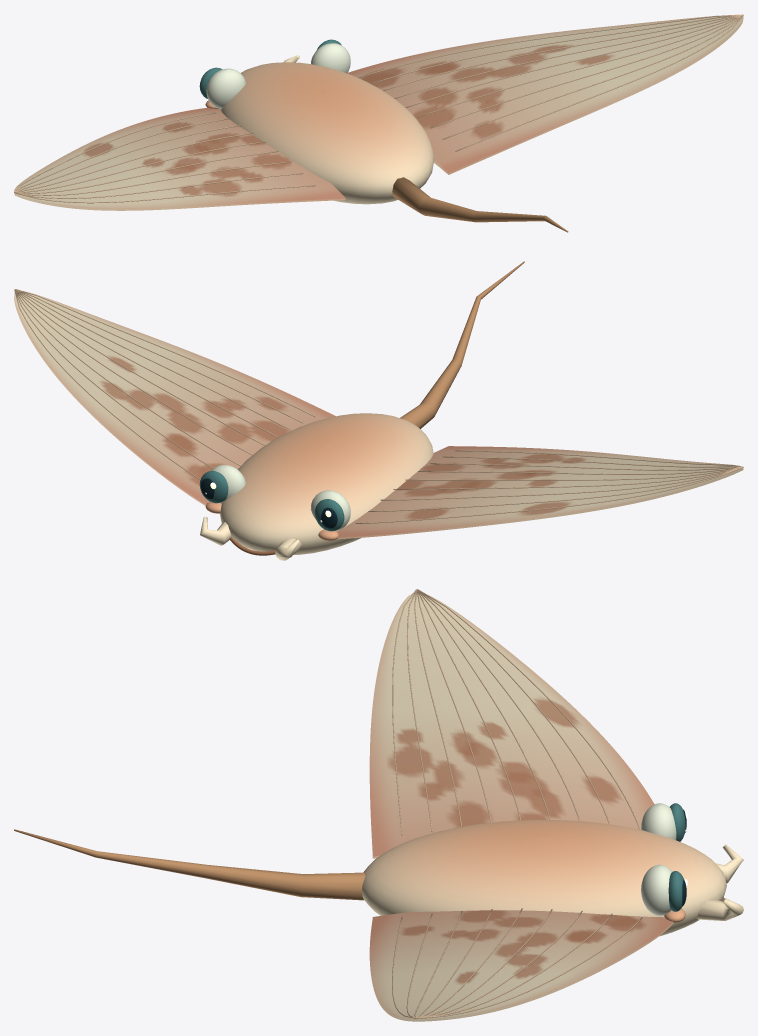
The model's file is ray.glb.
3 renders of one model, top to bottom at view 1: azimuth 30°, elevation 25°; view 2: azimuth 150°, elevation 25°; view 3: azimuth 270°, elevation 25°, orthographic. The views are drawn at different scales.
Visible parts, largest first — view 1: ray_wing_right_Silken fins, ray_wing_left_Silken fins, ray_fixed_Porcelain skin, ray_fixed_Silken fins, ray_eye_left_Porcelain skin, ray_eye_right_Porcelain skin; view 2: ray_wing_right_Silken fins, ray_wing_left_Silken fins, ray_fixed_Porcelain skin, ray_fixed_Silken fins, ray_eye_right_Porcelain skin, ray_eye_left_Porcelain skin, ray_eye_right_Enamel, ray_eye_left_Enamel; view 3: ray_wing_left_Silken fins, ray_fixed_Porcelain skin, ray_wing_right_Silken fins, ray_fixed_Silken fins, ray_eye_right_Porcelain skin, ray_eye_left_Porcelain skin.
Boxes of the visible parts, box(x1,y1,x2,y2) form: ray_wing_right_Silken fins: box(347, 14, 743, 174); ray_wing_left_Silken fins: box(14, 107, 345, 210); ray_fixed_Porcelain skin: box(205, 55, 434, 204); ray_fixed_Silken fins: box(392, 177, 568, 232); ray_eye_left_Porcelain skin: box(206, 68, 245, 108); ray_eye_right_Porcelain skin: box(311, 43, 350, 73); ray_wing_right_Silken fins: box(14, 289, 335, 513); ray_wing_left_Silken fins: box(337, 446, 743, 539); ray_fixed_Porcelain skin: box(200, 413, 433, 560); ray_fixed_Silken fins: box(400, 261, 524, 428); ray_eye_right_Porcelain skin: box(205, 465, 245, 503); ray_eye_left_Porcelain skin: box(310, 490, 350, 530); ray_eye_right_Enamel: box(199, 471, 228, 503); ray_eye_left_Enamel: box(314, 499, 344, 531); ray_wing_left_Silken fins: box(369, 589, 654, 858); ray_fixed_Porcelain skin: box(361, 820, 743, 936); ray_wing_right_Silken fins: box(369, 908, 673, 1021); ray_fixed_Silken fins: box(14, 829, 365, 900); ray_eye_right_Porcelain skin: box(641, 864, 686, 915); ray_eye_left_Porcelain skin: box(641, 803, 686, 839).
Size of the model in its own units: 7.41 by 1.05 by 5.33.
